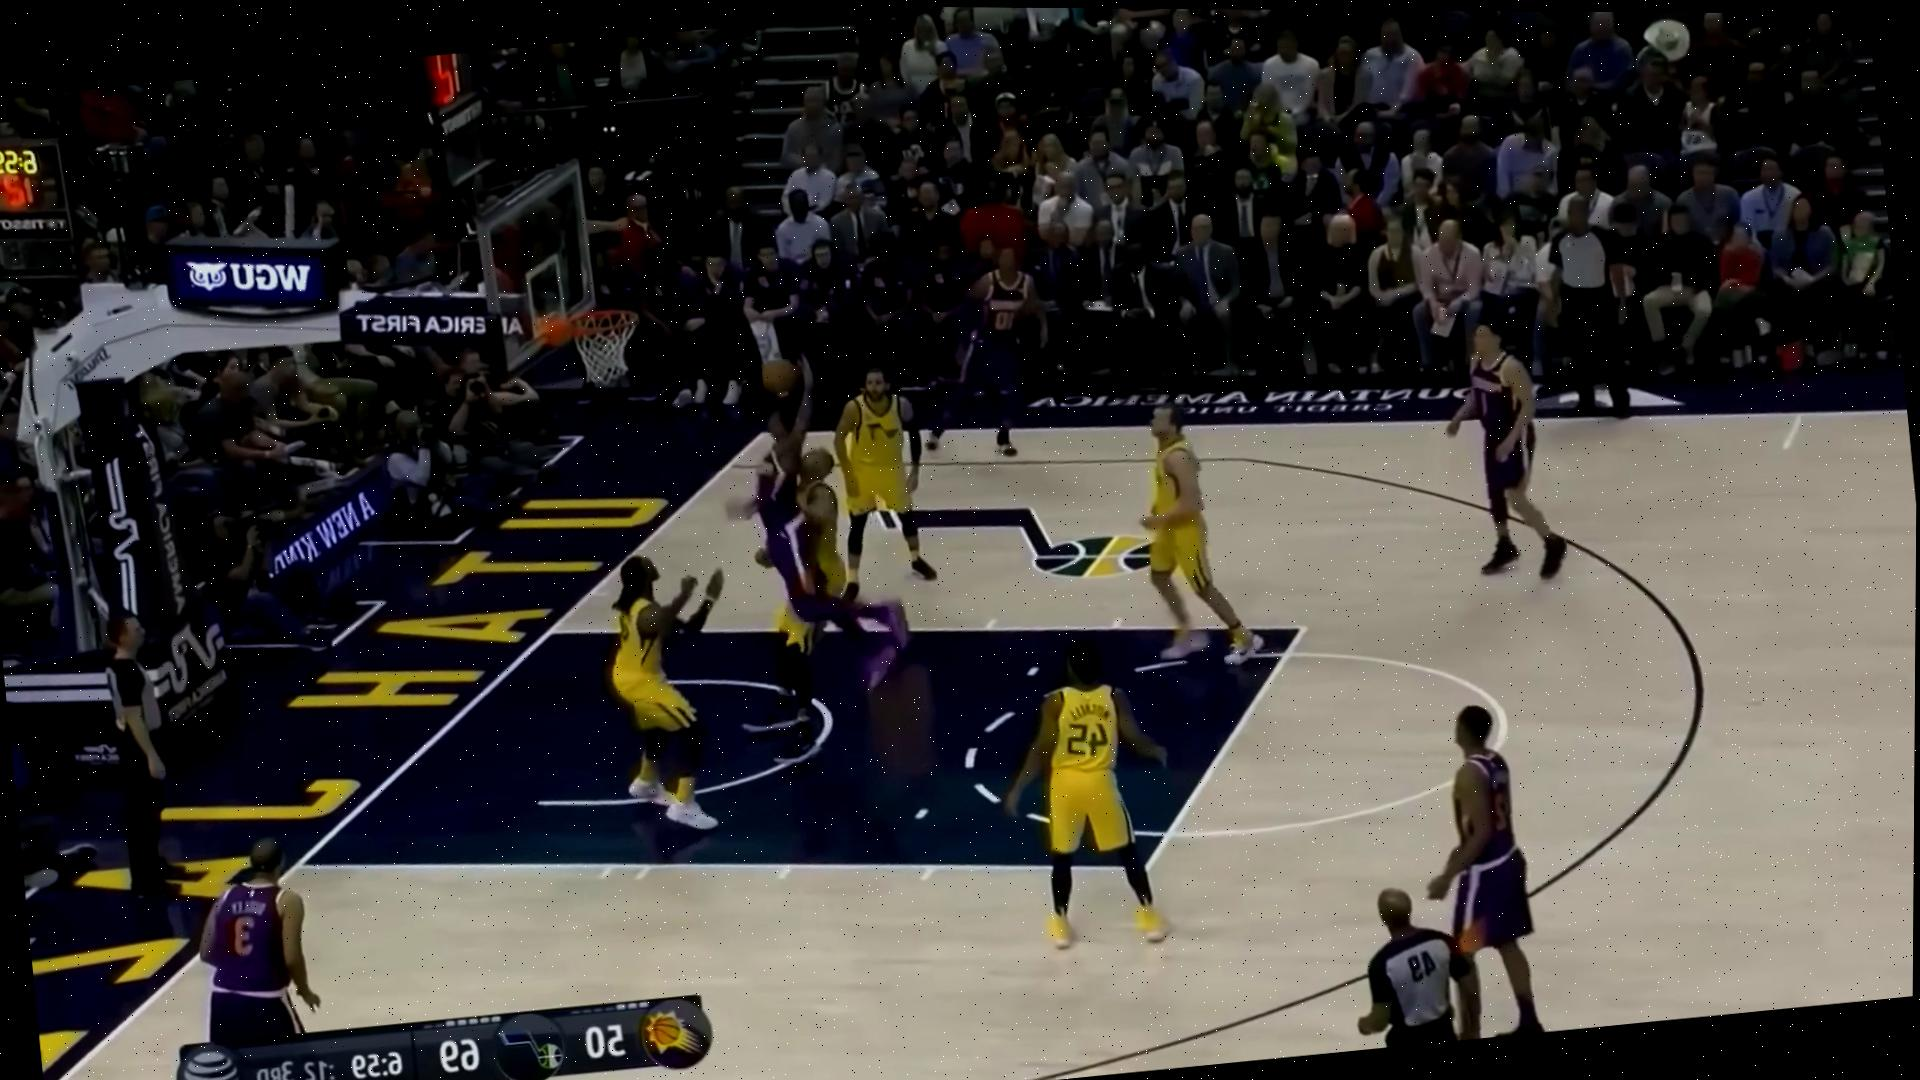foul: (711, 357, 906, 748)
